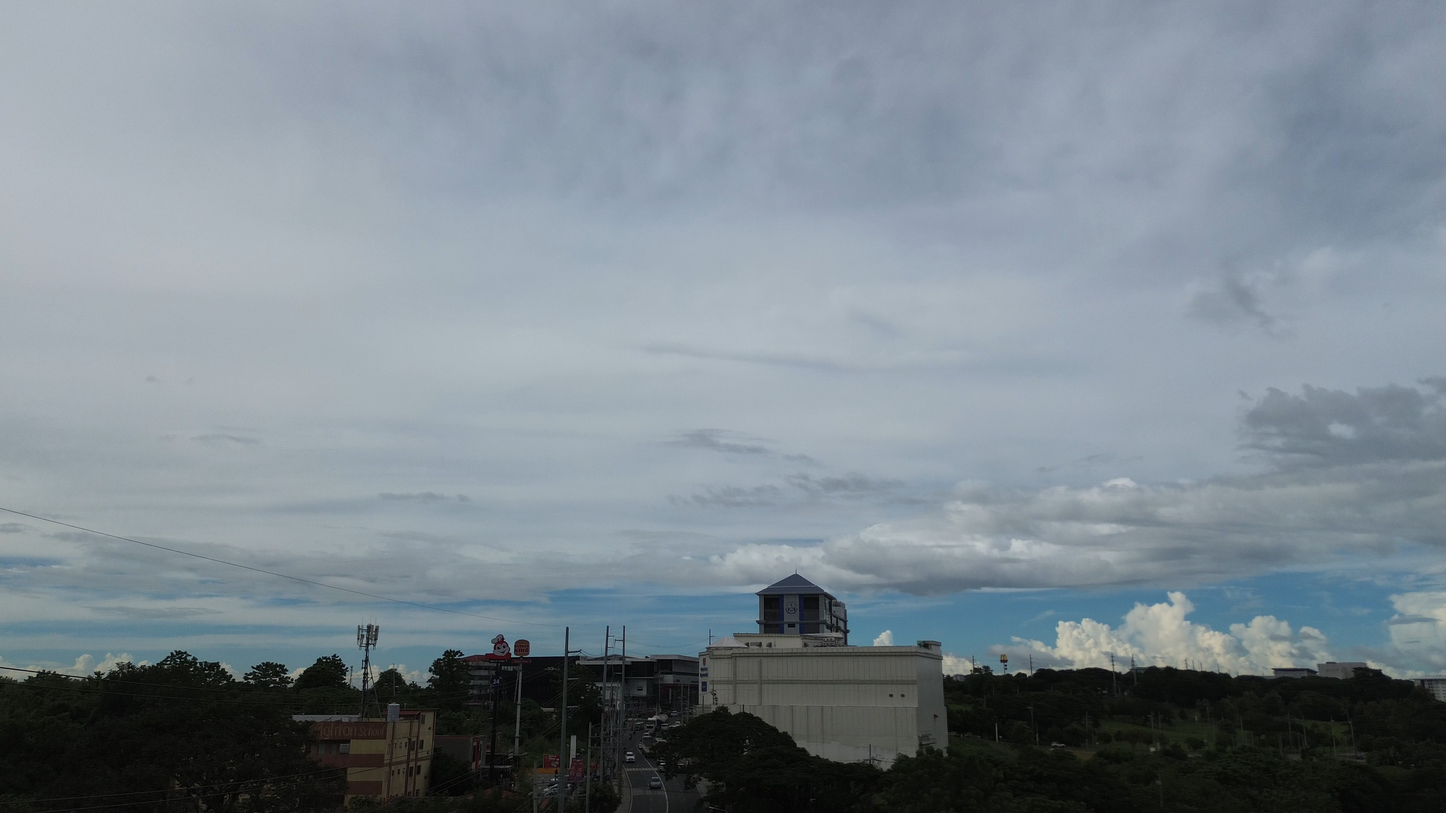car: (648, 776, 663, 789)
vehicle: (624, 751, 635, 763)
